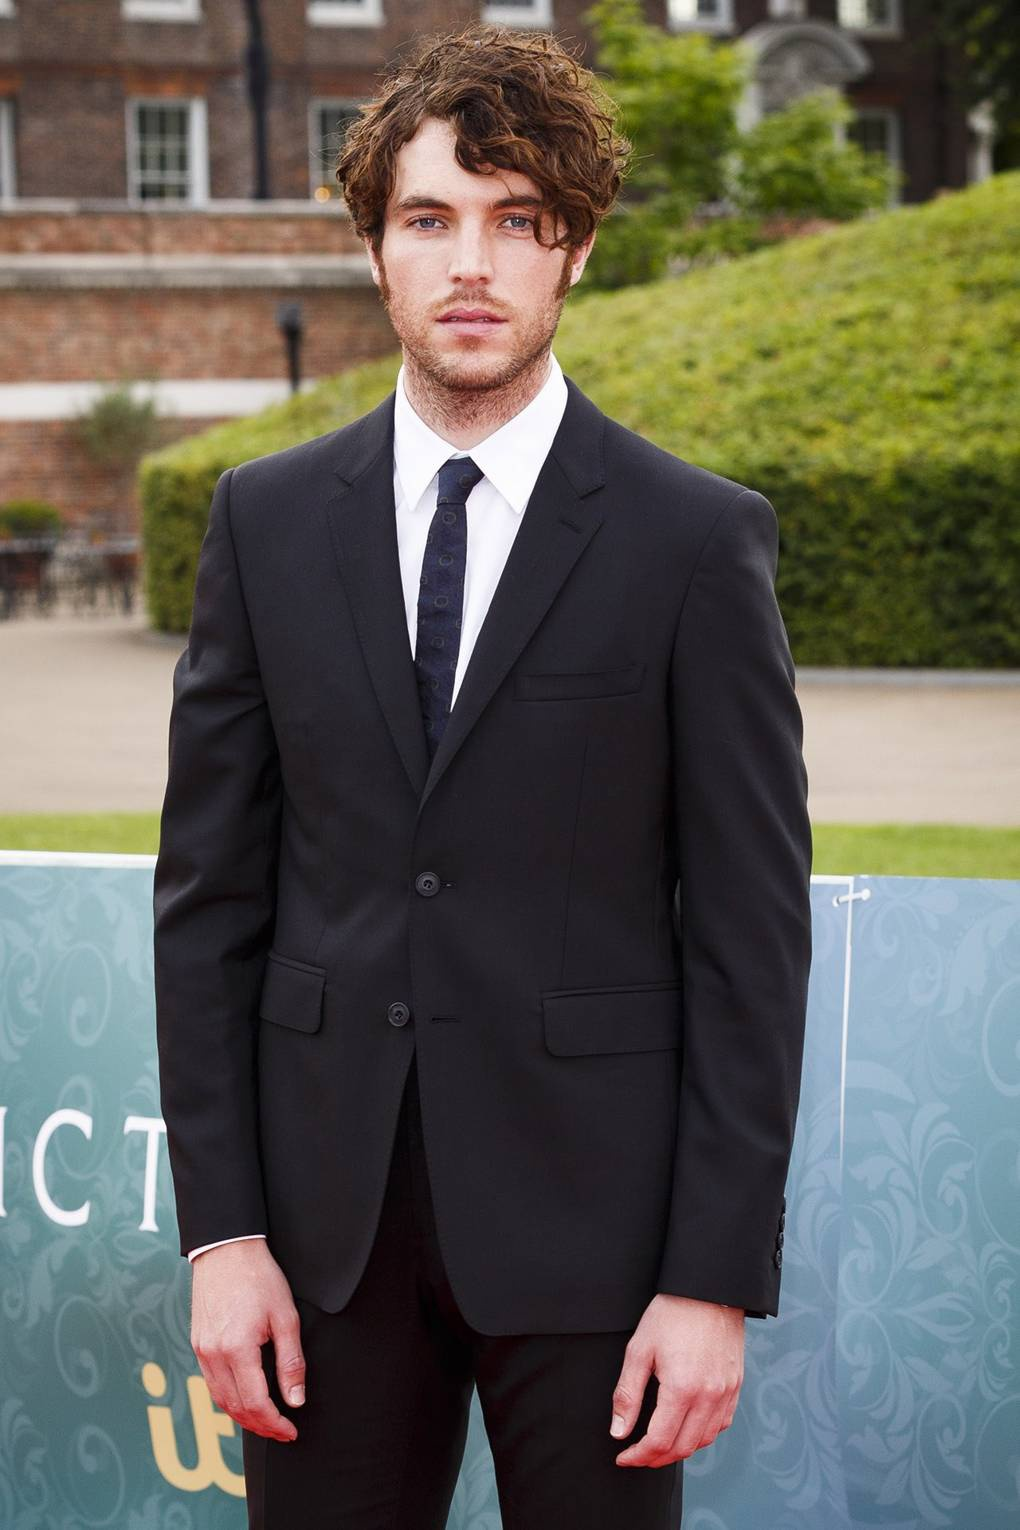bad: (365, 167, 589, 390)
